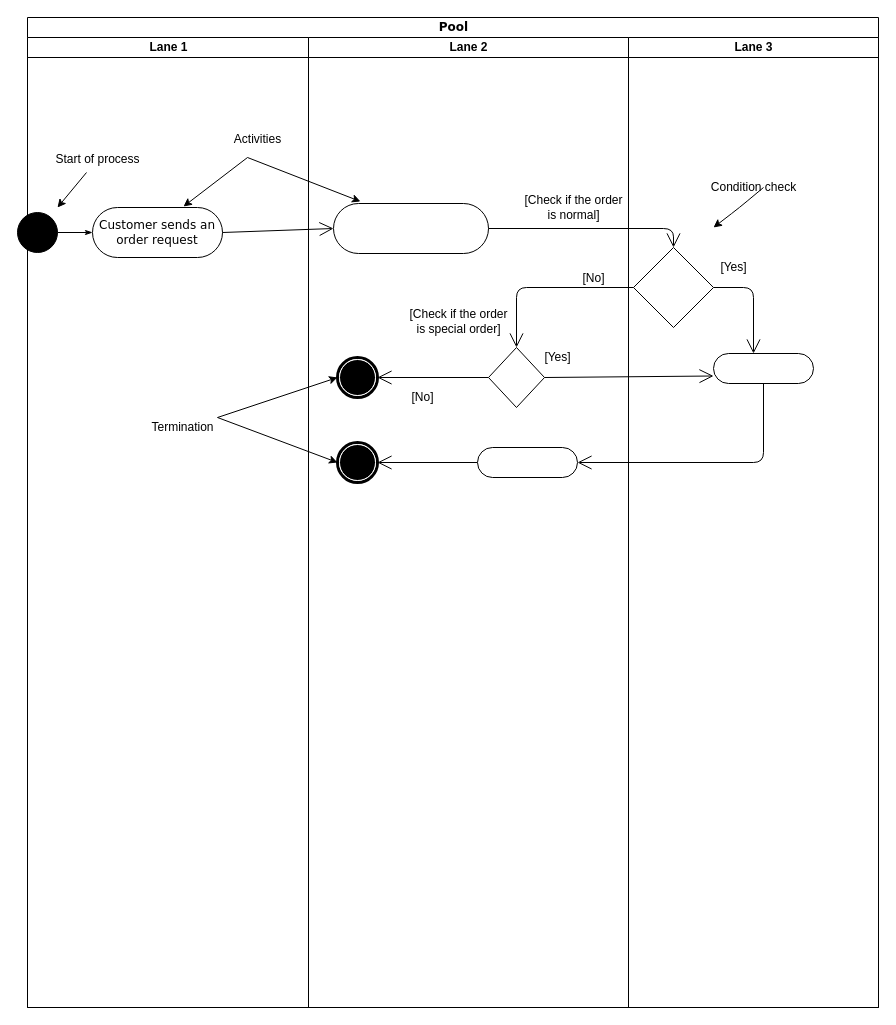
Some shapes in this 896 by 1025 pixel diagram are drawn without their labels. Here are the shapes that lost their labels. From the top down, the centre of each, then its label:
At [410,228]: "Order request systemconfirms the receipt of the order".
At [763,368]: "Confirm order".
At [527,462]: "Dispatch the order".
